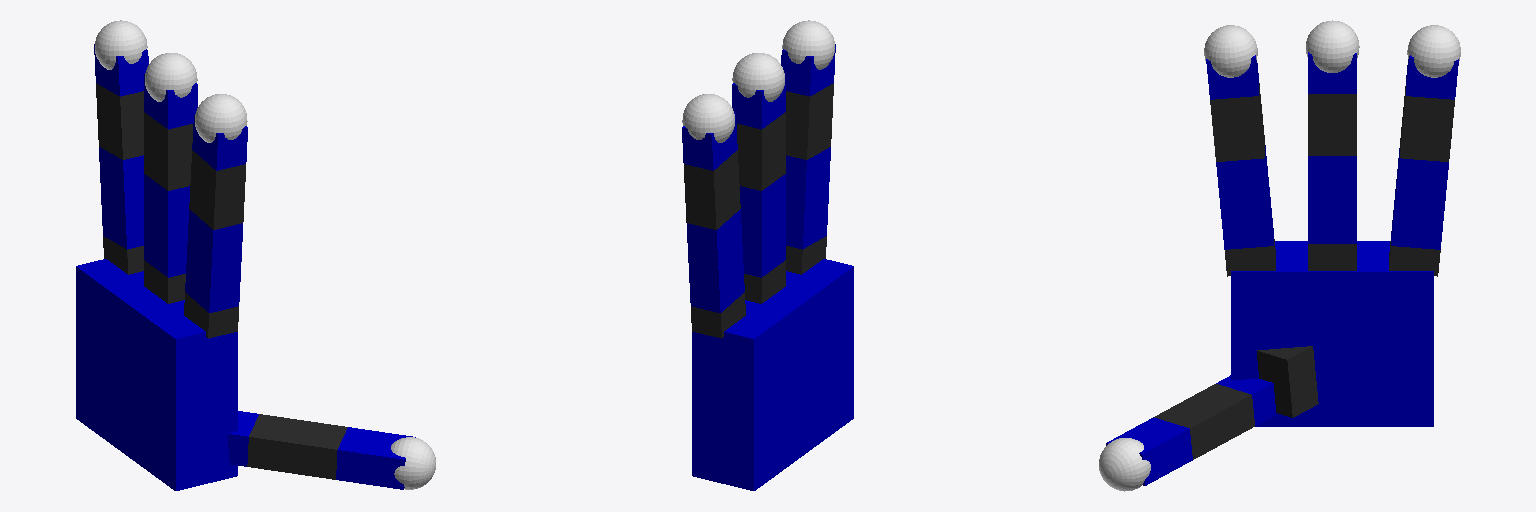
robot.urdf — AllegroHand_Left:
<?xml version="1.0" ?>
<!-- =================================================================================== -->
<!-- |    This document was autogenerated by xacro from AllegroHand_Left.urdf.xacro    | -->
<!-- |    EDITING THIS FILE BY HAND IS NOT RECOMMENDED                                 | -->
<!-- =================================================================================== -->
<robot name="AllegroHand_Left" xmlns:xacro="http://www.ros.org/wiki/xacro">
  <!-- ======================== BASE PARAMS ========================= -->
  <!-- ======================== FINGER PARAMS ======================== -->
  <!-- full height from joint to tip. when used,
the radius of the finger tip sphere will be subtracted
and one fixed link will be added for the tip. -->
  <!-- ========================= THUMB PARAMS ========================= -->
  <!-- ========================= LIMITS ========================= -->
  <!-- ============================================================================= -->
  <!-- ============================================================================= -->
  <!-- ============================================================================= -->
  <!-- BASE -->
  <link name="base_link">
    <visual>
      <geometry>
        <!--     drawing  estimate  estimate  -->
        <box size="0.0408 0.1130 0.095"/>
      </geometry>
      <origin rpy="0 0 0" xyz="-0.009300 0 -0.0475"/>
      <material name="blue">
        <color rgba="0 0 .8 1"/>
      </material>
    </visual>
  </link>
  <!-- ============================================================================= -->
  <!-- FINGERS -->
  <!--  LEFT HAND due to which finger is number 0 -->
  <!-- ALSO POSITIVE DIRECTIONS MAY HAVE TO CHANGE -->
  <link name="link_0.0">
    <visual>
      <geometry>
        <box size="0.0196 0.0275 0.0164"/>
      </geometry>
      <origin rpy="0 0 0" xyz="0 0 0.0082"/>
      <material name="black">
        <color rgba=".2 .2 .2 1"/>
      </material>
    </visual>
  </link>
  <joint name="joint_0.0" type="revolute">
    <axis xyz="0 0 1"/>
    <limit effort="0" lower="-0.47" upper="0.47" velocity="0"/>
    <parent link="base_link"/>
    <child link="link_0.0"/>
    <origin rpy="0.08726646255 0 0" xyz="0 -0.044981 -0.002298"/>
  </joint>
  <link name="link_1.0">
    <visual>
      <geometry>
        <box size="0.0196 0.0275 0.054"/>
      </geometry>
      <origin rpy="0 0 0" xyz="0 0 0.027"/>
      <material name="blue">
      </material>
    </visual>
  </link>
  <joint name="joint_1.0" type="revolute">
    <limit effort="0" lower="-0.196" upper="1.61" velocity="0"/>
    <axis xyz="0 1 0"/>
    <parent link="link_0.0"/>
    <child link="link_1.0"/>
    <origin xyz="0 0 0.0164"/>
  </joint>
  <link name="link_2.0">
    <visual>
      <geometry>
        <box size="0.0196 0.0275 0.0384"/>
      </geometry>
      <origin rpy="0 0 0" xyz="0 0 0.0192"/>
      <material name="black">
      </material>
    </visual>
  </link>
  <joint name="joint_2.0" type="revolute">
    <axis xyz="0 1 0"/>
    <limit effort="0" lower="-0.174" upper="1.709" velocity="0"/>
    <parent link="link_1.0"/>
    <child link="link_2.0"/>
    <origin xyz="0 0 0.054"/>
  </joint>
  <link name="link_3.0">
    <visual>
      <geometry>
        <box size="0.0196 0.0275 0.0237"/>
      </geometry>
      <origin rpy="0 0 0" xyz="0 0 0.01185"/>
      <material name="blue">
      </material>
    </visual>
  </link>
  <joint name="joint_3.0" type="revolute">
    <axis xyz="0 1 0"/>
    <limit effort="0" lower="-0.227" upper="1.618" velocity="0"/>
    <parent link="link_2.0"/>
    <child link="link_3.0"/>
    <origin xyz="0 0 0.0384"/>
  </joint>
  <link name="link_3.0_tip">
    <visual>
      <geometry>
        <sphere radius="0.015"/>
      </geometry>
      <origin rpy="0 0 0" xyz="0 0 0.0237"/>
      <material name="white">
        <color rgba=".9 .9 .9 1"/>
      </material>
    </visual>
  </link>
  <joint name="joint_3.0_tip" type="fixed">
    <parent link="link_3.0"/>
    <child link="link_3.0_tip"/>
    <origin xyz="0 0 0"/>
  </joint>
  <link name="link_4.0">
    <visual>
      <geometry>
        <box size="0.0196 0.0275 0.0164"/>
      </geometry>
      <origin rpy="0 0 0" xyz="0 0 0.0082"/>
      <material name="black">
        <color rgba=".2 .2 .2 1"/>
      </material>
    </visual>
  </link>
  <joint name="joint_4.0" type="revolute">
    <axis xyz="0 0 1"/>
    <limit effort="0" lower="-0.47" upper="0.47" velocity="0"/>
    <parent link="base_link"/>
    <child link="link_4.0"/>
    <origin rpy="0.0 0 0" xyz="0 0 0"/>
  </joint>
  <link name="link_5.0">
    <visual>
      <geometry>
        <box size="0.0196 0.0275 0.054"/>
      </geometry>
      <origin rpy="0 0 0" xyz="0 0 0.027"/>
      <material name="blue">
      </material>
    </visual>
  </link>
  <joint name="joint_5.0" type="revolute">
    <limit effort="0" lower="-0.196" upper="1.61" velocity="0"/>
    <axis xyz="0 1 0"/>
    <parent link="link_4.0"/>
    <child link="link_5.0"/>
    <origin xyz="0 0 0.0164"/>
  </joint>
  <link name="link_6.0">
    <visual>
      <geometry>
        <box size="0.0196 0.0275 0.0384"/>
      </geometry>
      <origin rpy="0 0 0" xyz="0 0 0.0192"/>
      <material name="black">
      </material>
    </visual>
  </link>
  <joint name="joint_6.0" type="revolute">
    <axis xyz="0 1 0"/>
    <limit effort="0" lower="-0.174" upper="1.709" velocity="0"/>
    <parent link="link_5.0"/>
    <child link="link_6.0"/>
    <origin xyz="0 0 0.054"/>
  </joint>
  <link name="link_7.0">
    <visual>
      <geometry>
        <box size="0.0196 0.0275 0.0237"/>
      </geometry>
      <origin rpy="0 0 0" xyz="0 0 0.01185"/>
      <material name="blue">
      </material>
    </visual>
  </link>
  <joint name="joint_7.0" type="revolute">
    <axis xyz="0 1 0"/>
    <limit effort="0" lower="-0.227" upper="1.618" velocity="0"/>
    <parent link="link_6.0"/>
    <child link="link_7.0"/>
    <origin xyz="0 0 0.0384"/>
  </joint>
  <link name="link_7.0_tip">
    <visual>
      <geometry>
        <sphere radius="0.015"/>
      </geometry>
      <origin rpy="0 0 0" xyz="0 0 0.0237"/>
      <material name="white">
        <color rgba=".9 .9 .9 1"/>
      </material>
    </visual>
  </link>
  <joint name="joint_7.0_tip" type="fixed">
    <parent link="link_7.0"/>
    <child link="link_7.0_tip"/>
    <origin xyz="0 0 0"/>
  </joint>
  <link name="link_8.0">
    <visual>
      <geometry>
        <box size="0.0196 0.0275 0.0164"/>
      </geometry>
      <origin rpy="0 0 0" xyz="0 0 0.0082"/>
      <material name="black">
        <color rgba=".2 .2 .2 1"/>
      </material>
    </visual>
  </link>
  <joint name="joint_8.0" type="revolute">
    <axis xyz="0 0 1"/>
    <limit effort="0" lower="-0.47" upper="0.47" velocity="0"/>
    <parent link="base_link"/>
    <child link="link_8.0"/>
    <origin rpy="-0.08726646255 0 0" xyz="0 0.044981 -0.002298"/>
  </joint>
  <link name="link_9.0">
    <visual>
      <geometry>
        <box size="0.0196 0.0275 0.054"/>
      </geometry>
      <origin rpy="0 0 0" xyz="0 0 0.027"/>
      <material name="blue">
      </material>
    </visual>
  </link>
  <joint name="joint_9.0" type="revolute">
    <limit effort="0" lower="-0.196" upper="1.61" velocity="0"/>
    <axis xyz="0 1 0"/>
    <parent link="link_8.0"/>
    <child link="link_9.0"/>
    <origin xyz="0 0 0.0164"/>
  </joint>
  <link name="link_10.0">
    <visual>
      <geometry>
        <box size="0.0196 0.0275 0.0384"/>
      </geometry>
      <origin rpy="0 0 0" xyz="0 0 0.0192"/>
      <material name="black">
      </material>
    </visual>
  </link>
  <joint name="joint_10.0" type="revolute">
    <axis xyz="0 1 0"/>
    <limit effort="0" lower="-0.174" upper="1.709" velocity="0"/>
    <parent link="link_9.0"/>
    <child link="link_10.0"/>
    <origin xyz="0 0 0.054"/>
  </joint>
  <link name="link_11.0">
    <visual>
      <geometry>
        <box size="0.0196 0.0275 0.0237"/>
      </geometry>
      <origin rpy="0 0 0" xyz="0 0 0.01185"/>
      <material name="blue">
      </material>
    </visual>
  </link>
  <joint name="joint_11.0" type="revolute">
    <axis xyz="0 1 0"/>
    <limit effort="0" lower="-0.227" upper="1.618" velocity="0"/>
    <parent link="link_10.0"/>
    <child link="link_11.0"/>
    <origin xyz="0 0 0.0384"/>
  </joint>
  <link name="link_11.0_tip">
    <visual>
      <geometry>
        <sphere radius="0.015"/>
      </geometry>
      <origin rpy="0 0 0" xyz="0 0 0.0237"/>
      <material name="white">
        <color rgba=".9 .9 .9 1"/>
      </material>
    </visual>
  </link>
  <joint name="joint_11.0_tip" type="fixed">
    <parent link="link_11.0"/>
    <child link="link_11.0_tip"/>
    <origin xyz="0 0 0"/>
  </joint>
  <link name="link_12.0">
    <visual>
      <geometry>
        <box size="0.0358 0.034 0.0455"/>
      </geometry>
      <origin rpy="0 0 0" xyz="0.0091 -0.009 0.0145"/>
      <material name="black">
        <color rgba=".2 .2 .2 1"/>
      </material>
    </visual>
  </link>
  <joint name="joint_12.0" type="revolute">
    <axis xyz="1 0 0"/>
    <limit effort="0" lower="0.263" upper="1.396" velocity="0"/>
    <parent link="base_link"/>
    <child link="link_12.0"/>
    <origin rpy="0 -1.65806278845 1.5707963259" xyz="-0.0182 -0.0168753 -0.07308"/>
  </joint>
  <link name="link_13.0">
    <visual>
      <geometry>
        <box size="0.0196 0.0275 0.0177"/>
      </geometry>
      <origin rpy="0 0 0" xyz="0 0 0.00885"/>
      <material name="blue">
      </material>
    </visual>
  </link>
  <joint name="joint_13.0" type="revolute">
    <axis xyz="0 0 -1"/>
    <limit effort="0" lower="-0.105" upper="1.163" velocity="0"/>
    <parent link="link_12.0"/>
    <child link="link_13.0"/>
    <origin xyz="0 0 0.0375"/>
  </joint>
  <link name="link_14.0">
    <visual>
      <geometry>
        <box size="0.0196 0.0275 0.0514"/>
      </geometry>
      <origin rpy="0 0 0" xyz="0 0 0.0257"/>
      <material name="black">
      </material>
    </visual>
  </link>
  <joint name="joint_14.0" type="revolute">
    <axis xyz="0 1 0"/>
    <limit effort="0" lower="-0.189" upper="1.644" velocity="0"/>
    <parent link="link_13.0"/>
    <child link="link_14.0"/>
    <origin xyz="0 0 0.0177"/>
  </joint>
  <link name="link_15.0">
    <visual>
      <geometry>
        <box size="0.0196 0.0275 0.0393"/>
      </geometry>
      <origin rpy="0 0 0" xyz="0 0 0.01965"/>
      <material name="blue">
      </material>
    </visual>
  </link>
  <joint name="joint_15.0" type="revolute">
    <axis xyz="0 1 0"/>
    <limit effort="0" lower="-0.162" upper="1.719" velocity="0"/>
    <parent link="link_14.0"/>
    <child link="link_15.0"/>
    <origin xyz="0 0 0.0514"/>
  </joint>
  <link name="link_15.0_tip">
    <visual>
      <geometry>
        <sphere radius="0.015"/>
      </geometry>
      <origin rpy="0 0 0" xyz="0 0 0.0393"/>
      <material name="white">
        <color rgba=".9 .9 .9 1"/>
      </material>
    </visual>
  </link>
  <joint name="joint_15.0_tip" type="fixed">
    <parent link="link_15.0"/>
    <child link="link_15.0_tip"/>
    <origin xyz="0 0 0"/>
  </joint>
  <!-- -${95*DEG2RAD}    ${180*DEG2RAD} -->
  <!-- ============================================================================= -->
  <!-- LEFT -->
  <!-- THUMB -->
  <!-- Write code for left and right with proper changes
	(using variables for like comps) and include as 2 macros
	include both and comment unused for right and left -->
  <!-- END LEFT -->
  <!-- ============================================================================= -->
  <!-- ============================================================================= -->
  <!-- ============================================================================= -->
  <!-- THUMB MACRO -->
  <!-- [[END]] THUMB MACRO -->
  <!-- THREE FINGER MACRO -->
  <!-- [[END]] THREE FINGER MACRO -->
</robot>

--- Render facts (derived) ---
3 views of the same robot in one strip: view 1: azimuth 30°, elevation 25°; view 2: azimuth 150°, elevation 25°; view 3: azimuth 270°, elevation 25° (orthographic).
Robot: AllegroHand_Left — 21 links, 20 joints (16 revolute, 4 fixed); root link base_link; default pose: all joints at 0 but 1 set to mid-range because 0 is outside their limits (joint_12.0 = 0.8295).
Links seen in each view (by area): view 1: base_link, link_14.0, link_1.0, link_5.0, link_9.0, link_15.0, link_2.0, link_6.0, link_10.0, link_3.0_tip, link_7.0_tip, link_11.0_tip (+8 smaller); view 2: base_link, link_9.0, link_5.0, link_1.0, link_10.0, link_6.0, link_2.0, link_11.0_tip, link_7.0_tip, link_3.0_tip, link_11.0, link_7.0 (+4 smaller); view 3: base_link, link_1.0, link_9.0, link_5.0, link_14.0, link_12.0, link_2.0, link_10.0, link_6.0, link_15.0, link_7.0_tip, link_15.0_tip (+9 smaller).
Boxes of the visible links, x1,y1,x2,y2 form: base_link: [76, 259, 237, 490]; link_14.0: [247, 414, 347, 479]; link_1.0: [185, 209, 242, 312]; link_5.0: [144, 174, 189, 277]; link_9.0: [99, 147, 143, 249]; link_15.0: [336, 427, 415, 489]; link_2.0: [189, 150, 245, 229]; link_6.0: [144, 112, 192, 190]; link_10.0: [96, 83, 143, 159]; link_3.0_tip: [195, 94, 247, 142]; link_7.0_tip: [145, 53, 197, 101]; link_11.0_tip: [95, 20, 147, 69]; base_link: [692, 259, 853, 490]; link_9.0: [687, 209, 744, 312]; link_5.0: [740, 174, 785, 277]; link_1.0: [786, 147, 830, 249]; link_10.0: [684, 150, 740, 229]; link_6.0: [737, 112, 785, 190]; link_2.0: [786, 83, 833, 159]; link_11.0_tip: [682, 94, 734, 142]; link_7.0_tip: [732, 53, 784, 101]; link_3.0_tip: [782, 20, 834, 69]; link_11.0: [682, 113, 737, 170]; link_7.0: [732, 74, 785, 129]; base_link: [1231, 241, 1433, 426]; link_1.0: [1216, 145, 1273, 249]; link_9.0: [1391, 148, 1448, 249]; link_5.0: [1308, 156, 1356, 243]; link_14.0: [1154, 384, 1254, 459]; link_12.0: [1257, 346, 1318, 417]; link_2.0: [1210, 83, 1264, 161]; link_10.0: [1400, 86, 1454, 161]; link_6.0: [1308, 94, 1356, 155]; link_15.0: [1106, 417, 1192, 485]; link_7.0_tip: [1306, 20, 1359, 72]; link_15.0_tip: [1099, 438, 1150, 491].
Size in the robot's own frame: 0.1341 by 0.2014 by 0.2441 metres.
Geometry: primitives only (box / cylinder / sphere), no mesh files.